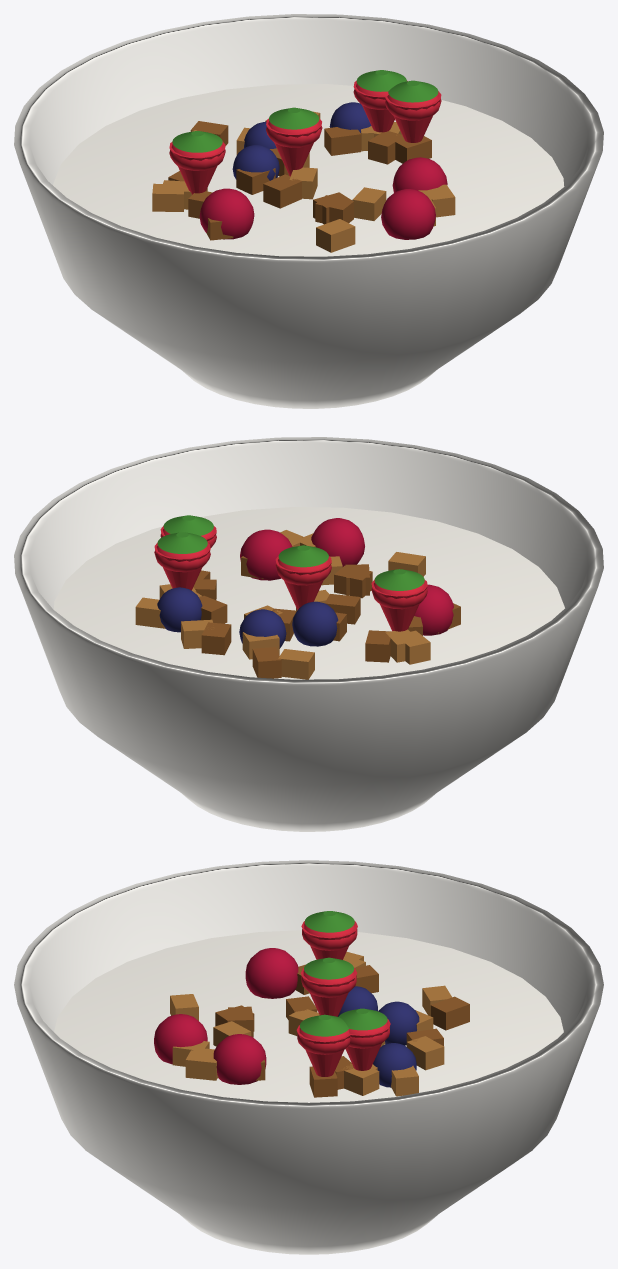
File: mezzogiorno-yogurt-frutta-granola-home-made.glb
3 renders of one model, top to bottom at view 1: azimuth 30°, elevation 25°; view 2: azimuth 150°, elevation 25°; view 3: azimuth 270°, elevation 25°, orthographic.
Bounding box in the file's own units: 0.15 × 0.0662 × 0.15.
